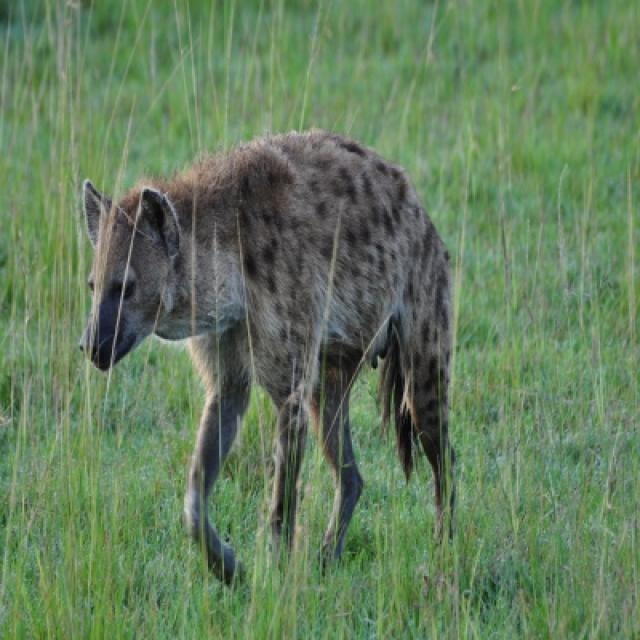hyena: (80, 130, 454, 587)
